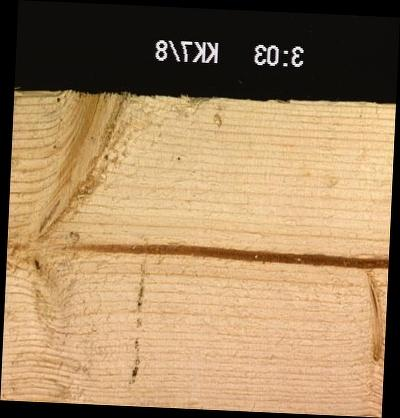small_knot: (27, 256, 45, 272)
